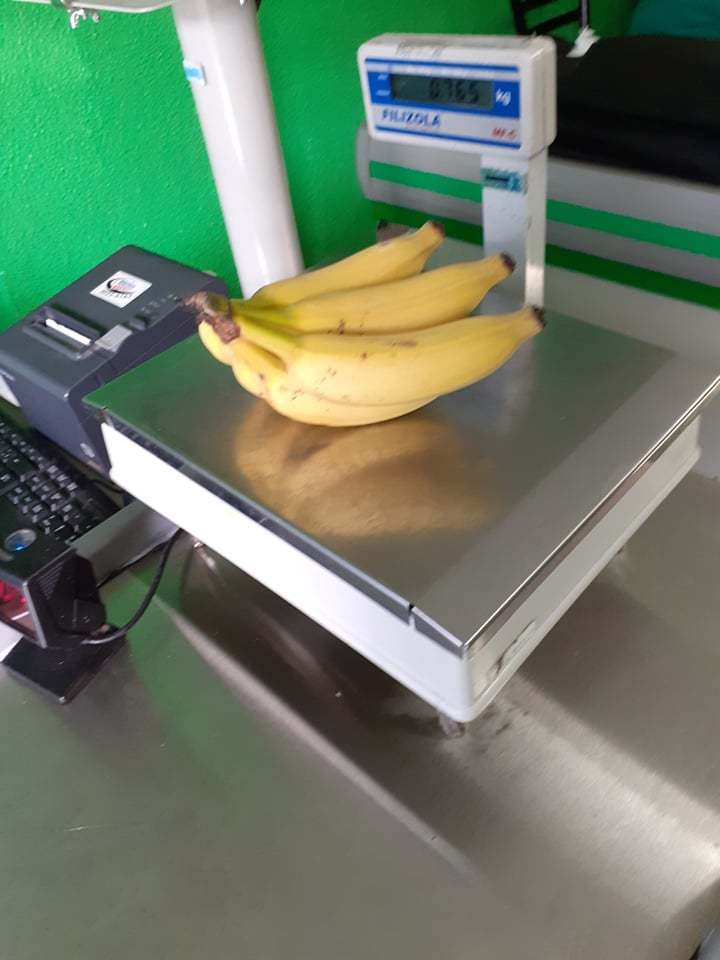banana: (190, 240, 515, 440)
